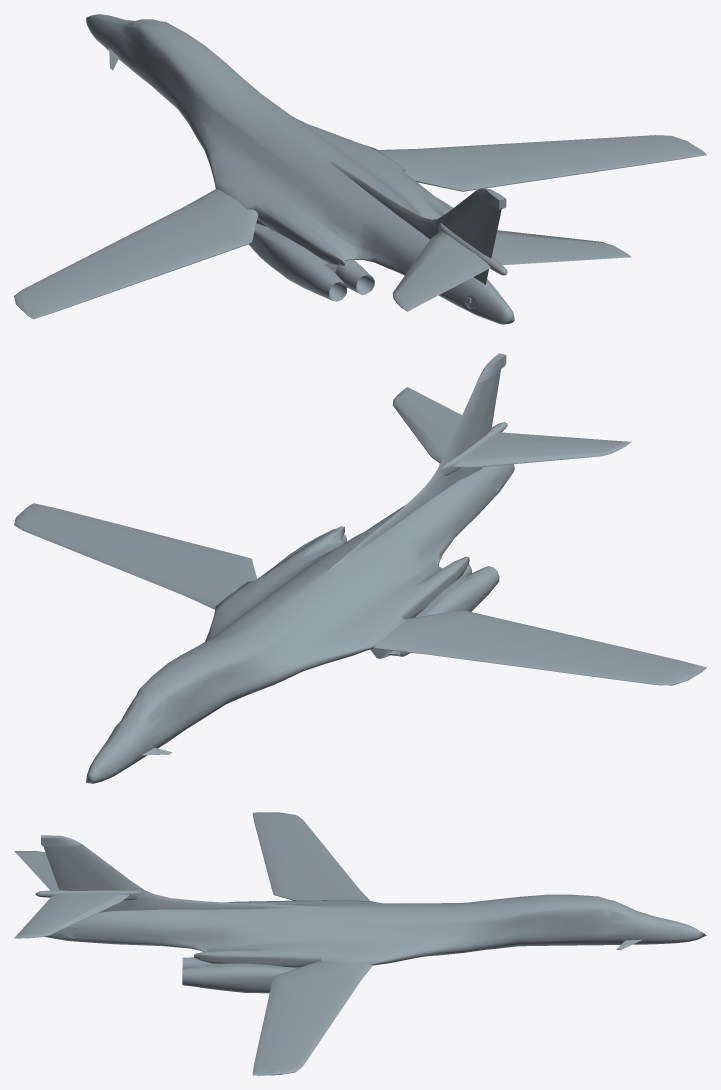
File: model-aircraft-bb-2.glb
The picture shows the model from 3 angles, top to bottom: view 1: azimuth 30°, elevation 25°; view 2: azimuth 150°, elevation 25°; view 3: azimuth 270°, elevation 25°; orthographic projection. The views are drawn at different scales.
Bounding box in the file's own units: 40.78 × 9.05 × 45.42.
